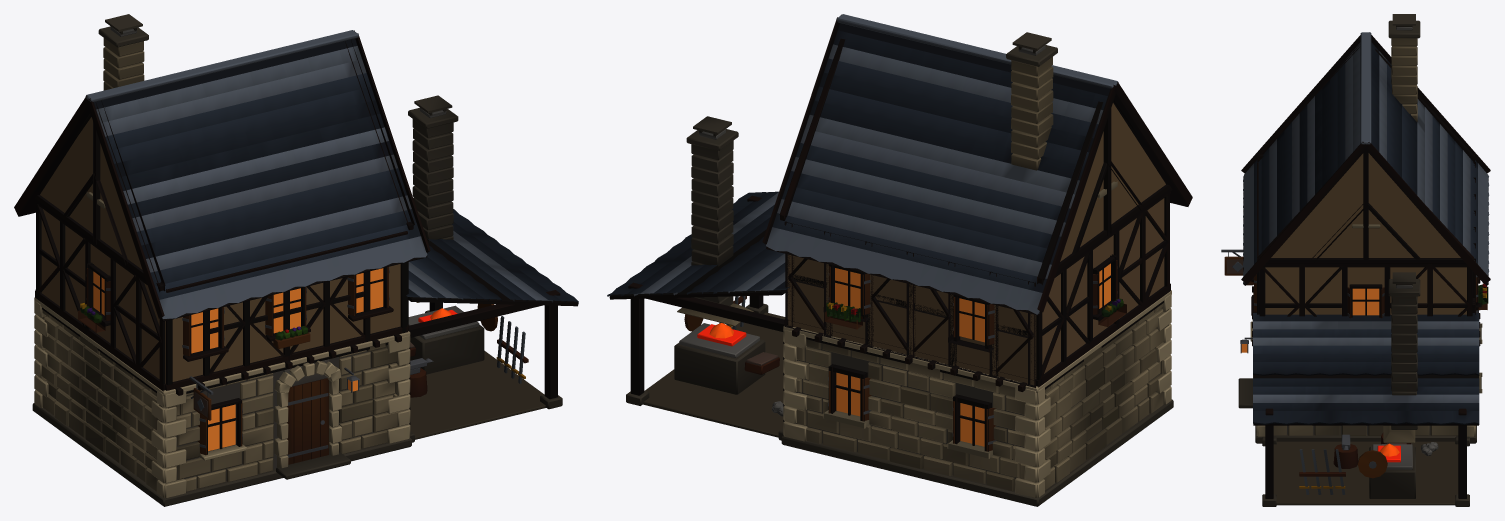
File: Ferraria4.fbx
3 views of the same model, side by side, from view 1: azimuth 30°, elevation 25°; view 2: azimuth 150°, elevation 25°; view 3: azimuth 270°, elevation 25° (orthographic). The views are drawn at different scales.
Parts seen in each view (by area): view 1: Ferraria4; view 2: Ferraria4; view 3: Ferraria4.
Boxes of the visible parts, x1=… form: Ferraria4: x1=14, y1=14, x2=578, y2=506; Ferraria4: x1=607, y1=14, x2=1192, y2=506; Ferraria4: x1=1221, y1=14, x2=1490, y2=506.
Bounding box in the file's own units: 12.41 × 11.37 × 8.09.
